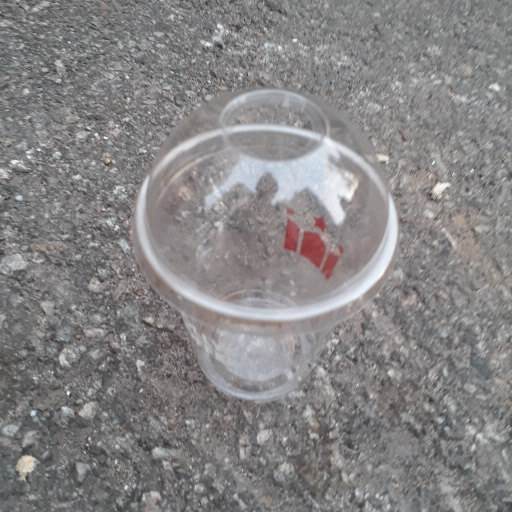Plastic_2: (126, 86, 407, 408)
